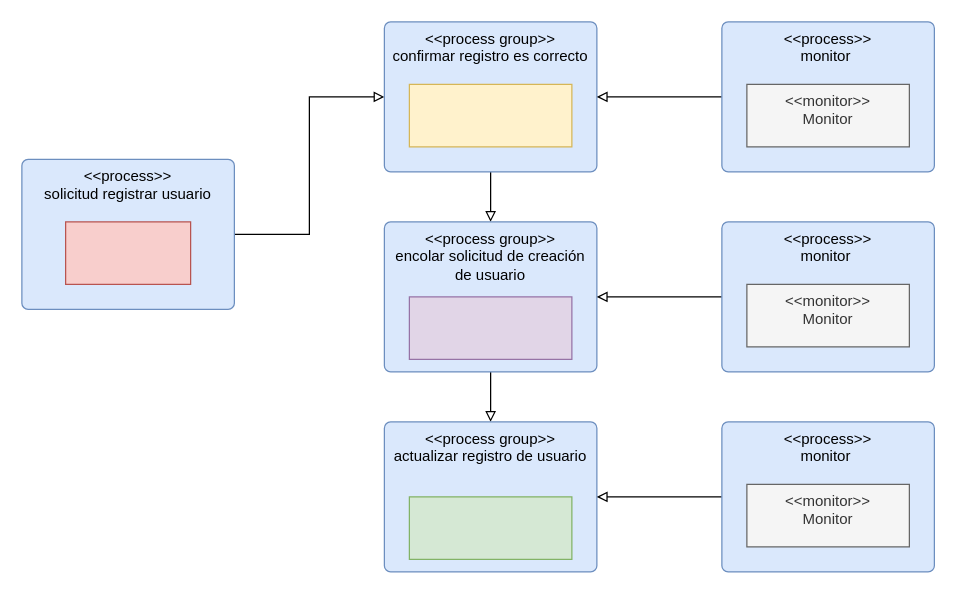
Some shapes in this 956 by 594 pixel diagram are drawn without their labels. The shapes that lost their labels are listed below. From the top down, each one's centre as x and y in pixels, then its label:
the point at 490,115: <<service>> Servicio de Consulta de Usuarios
the point at 127,252: <<service>> API GateWay
the point at 490,327: <<service>> Servicio de Encolamiento
the point at 490,527: <<service>> Servicio de Registro de Usuarios
